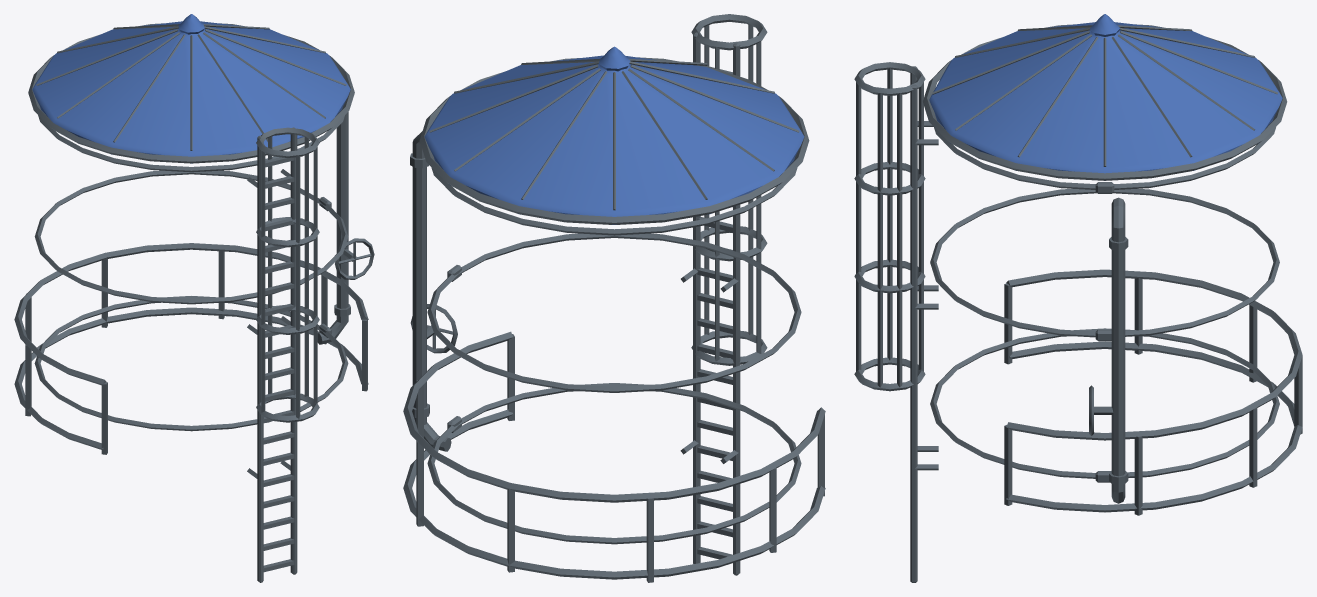
Rendered from TankDetailKit.glb.
The picture shows the model from 3 angles, left to right: view 1: azimuth 30°, elevation 25°; view 2: azimuth 150°, elevation 25°; view 3: azimuth 270°, elevation 25°; orthographic projection. The views are drawn at different scales.
Parts seen in each view (by area): view 1: TankDetailKit_Charcoal, TankDetailKit_Accent; view 2: TankDetailKit_Charcoal, TankDetailKit_Accent; view 3: TankDetailKit_Charcoal, TankDetailKit_Accent.
Boxes of the visible parts, x1,y1,x2,y2 form: TankDetailKit_Charcoal: (14, 23, 374, 582); TankDetailKit_Accent: (32, 14, 350, 163); TankDetailKit_Charcoal: (403, 14, 825, 582); TankDetailKit_Accent: (424, 46, 804, 224); TankDetailKit_Charcoal: (854, 24, 1302, 582); TankDetailKit_Accent: (929, 14, 1282, 173).
Size of the model in its own units: 11.04 by 16 by 11.63.
